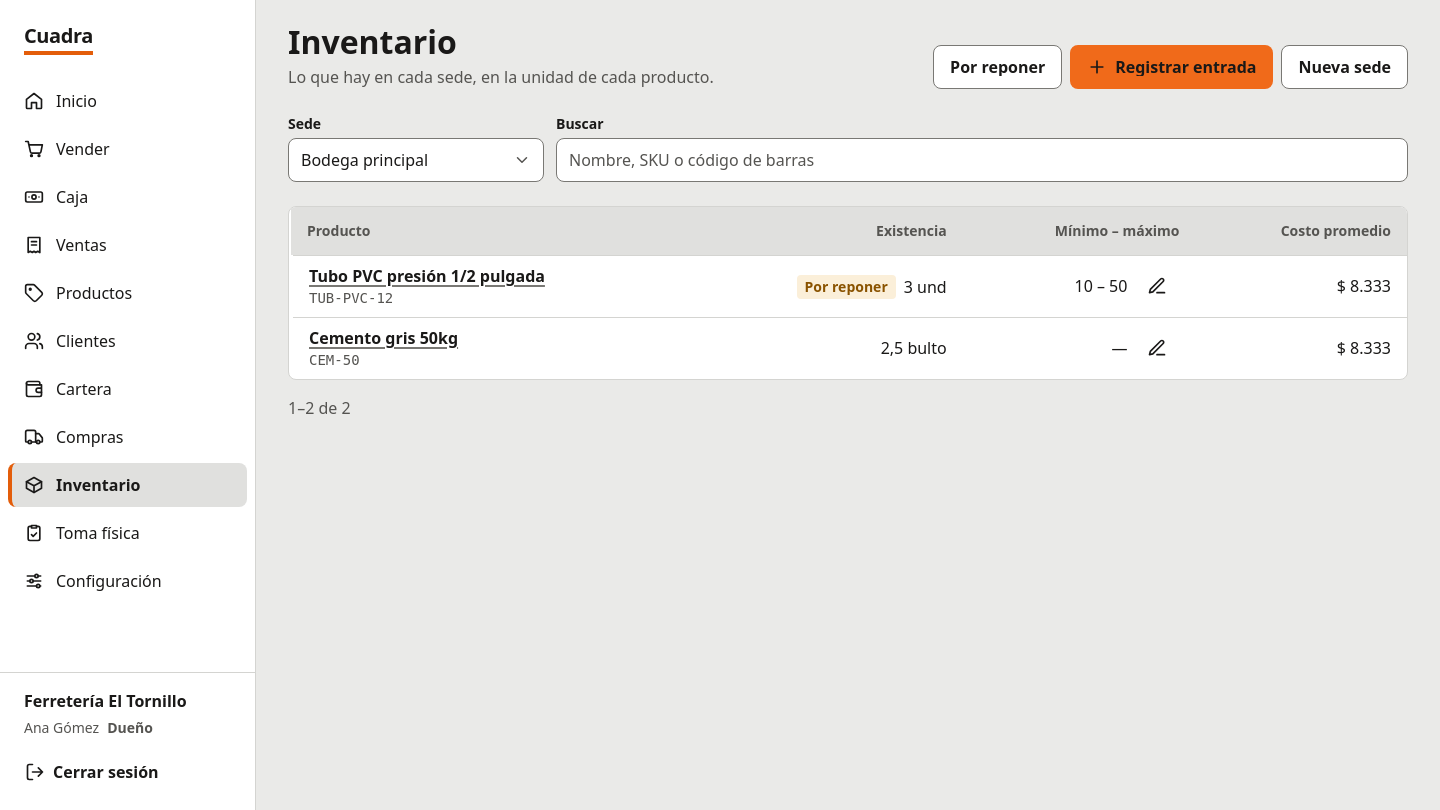
Scenario: StockPage: stock mínimo y máximo › quita el mínimo y el máximo de una variante que los tiene
Click the button named "Mínimo y máximo" at coordinates (1157, 286), box [1135, 264, 1179, 308]
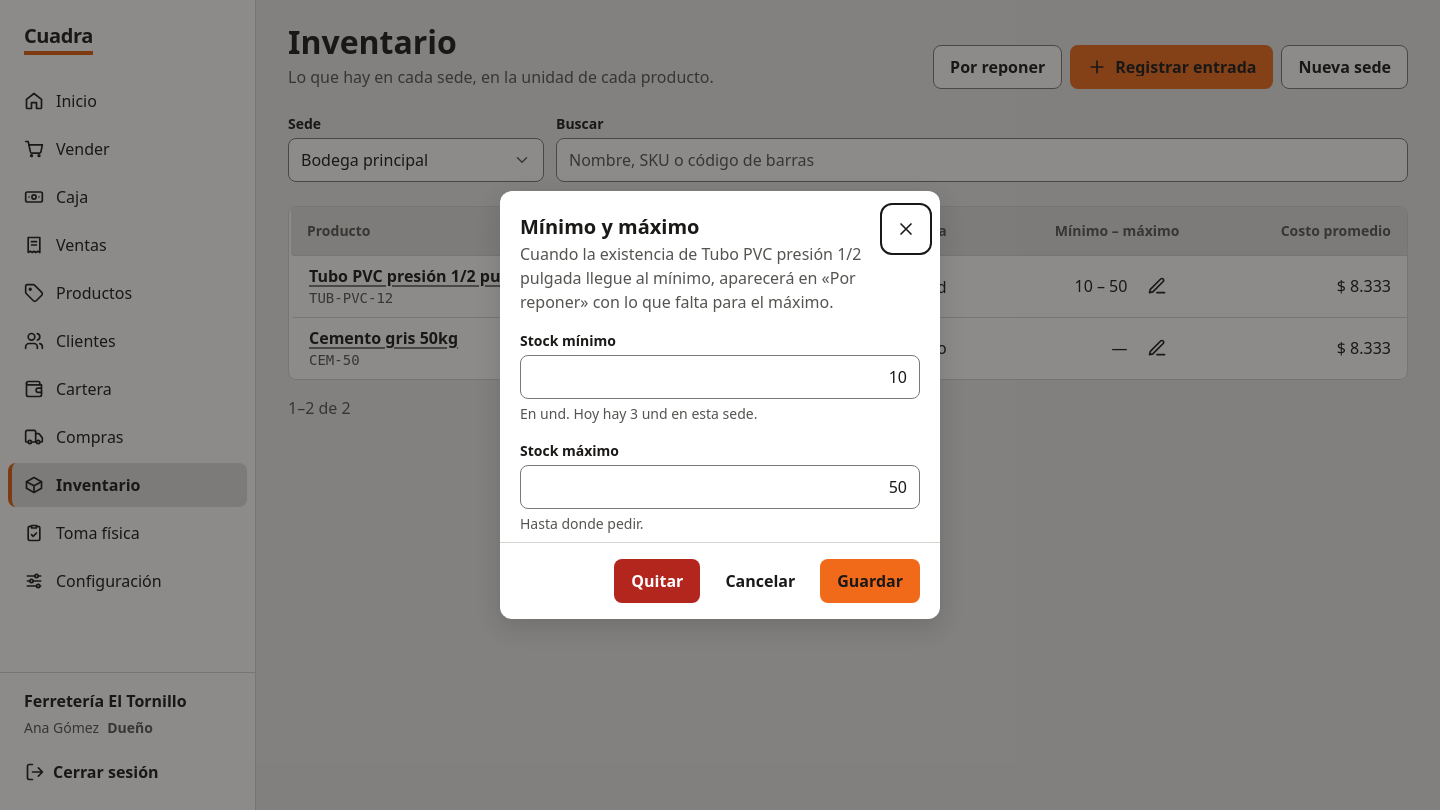
Now the field labelled "Stock mínimo" holds "10", box [520, 355, 920, 399]
Click the button "Quitar" at coordinates (657, 581), box [614, 559, 700, 603]
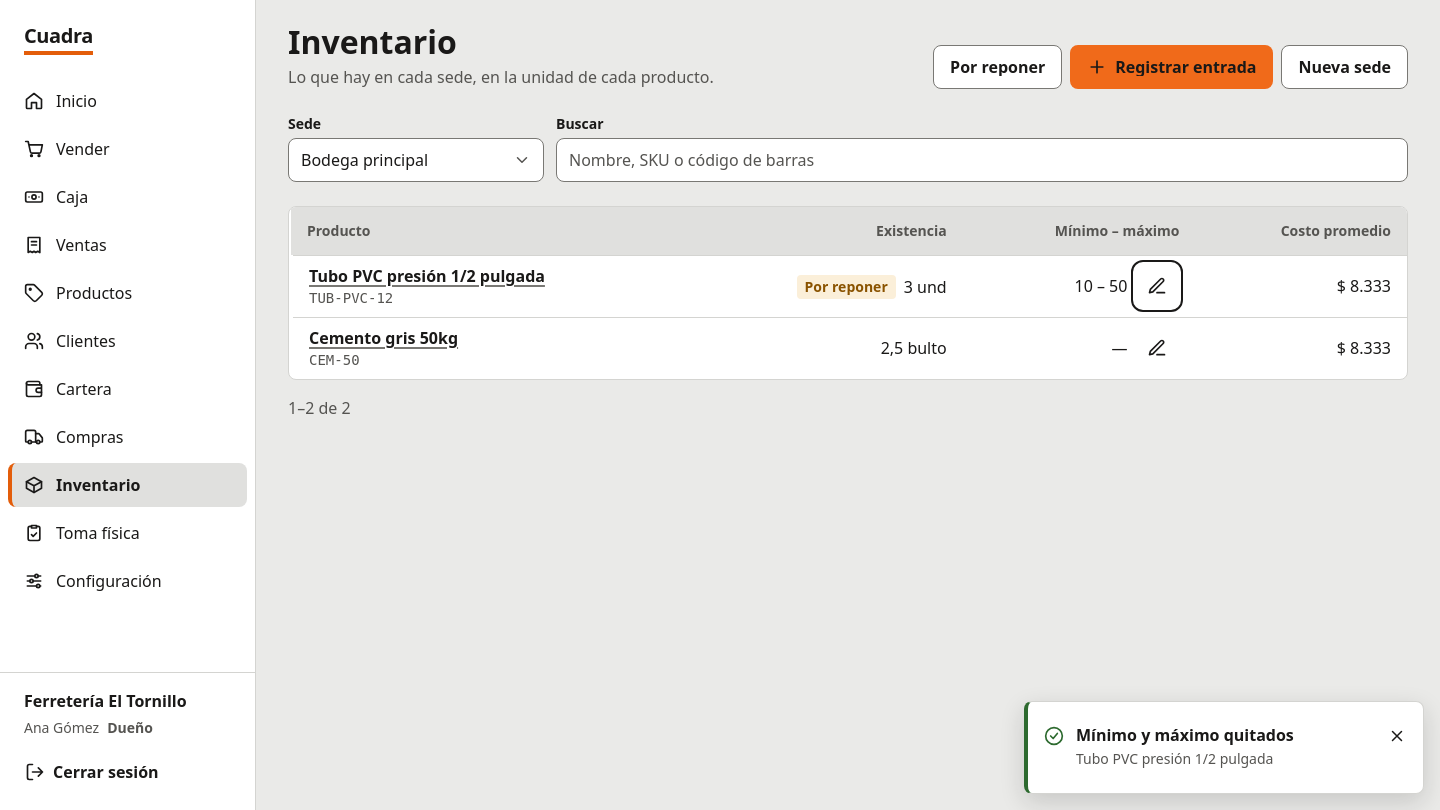
Now the dialog is gone
